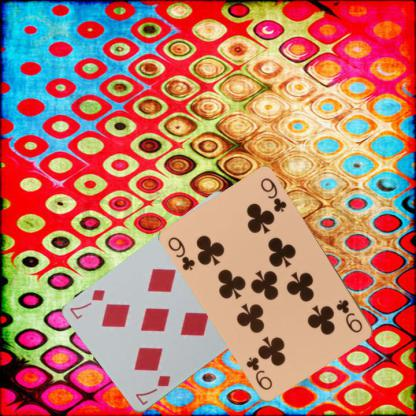7d: (132, 372, 172, 406)
9c: (165, 234, 197, 272), (334, 297, 364, 335)
